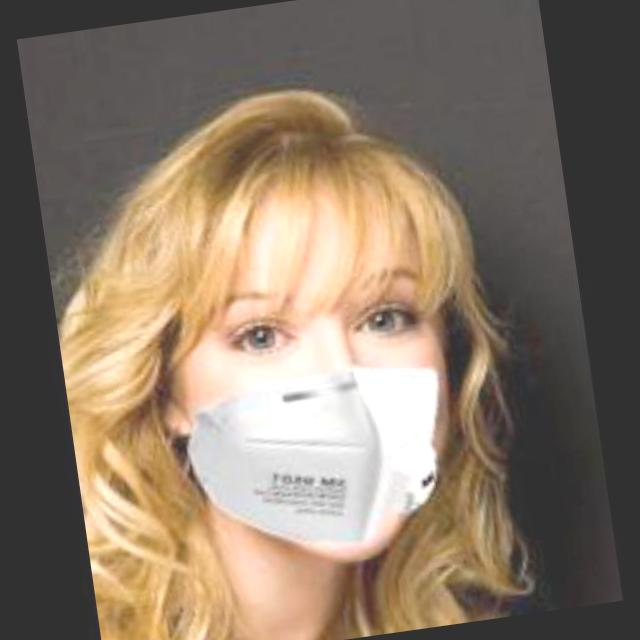suspicion: (109, 132, 519, 596)
